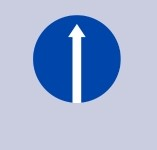Go_straight: (31, 14, 122, 105)
